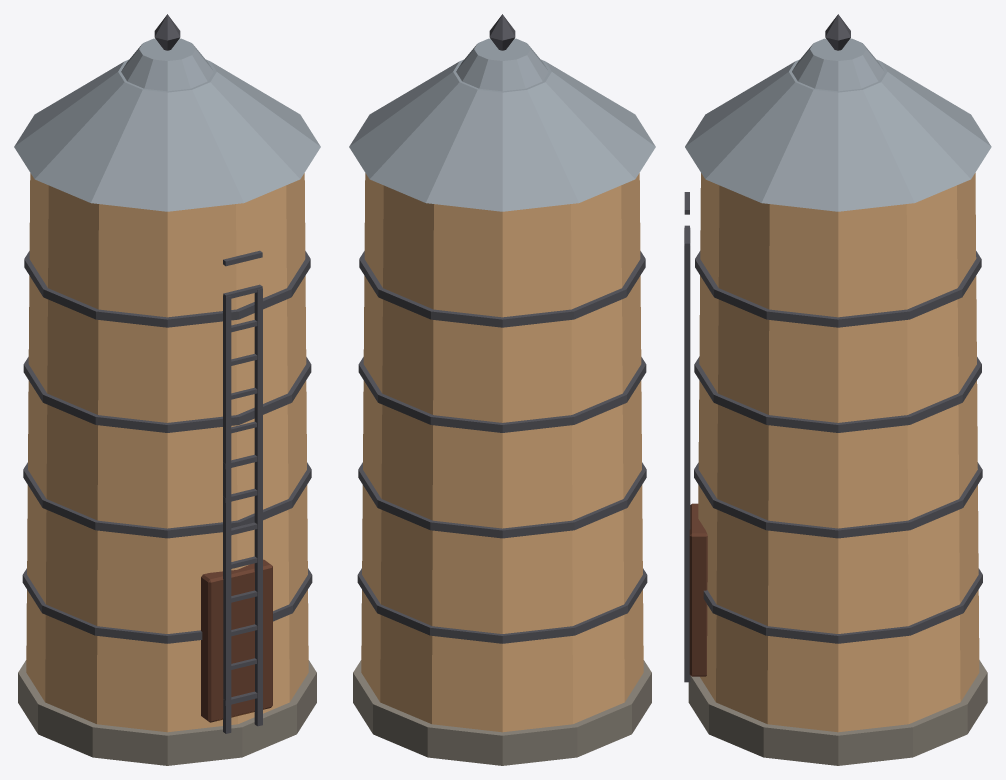
File: Silo.fbx
3 views of the same model, side by side, from view 1: azimuth 30°, elevation 25°; view 2: azimuth 150°, elevation 25°; view 3: azimuth 270°, elevation 25° (orthographic).
Visible parts, largest first — view 1: Silo; view 2: Silo; view 3: Silo.
Part boxes in pixels (left/top/right/bottom): Silo: left=14, top=14, right=320, bottom=765; Silo: left=349, top=14, right=655, bottom=765; Silo: left=684, top=14, right=991, bottom=765.
Bounding box in the file's own units: 3.7 × 9.17 × 3.71.
